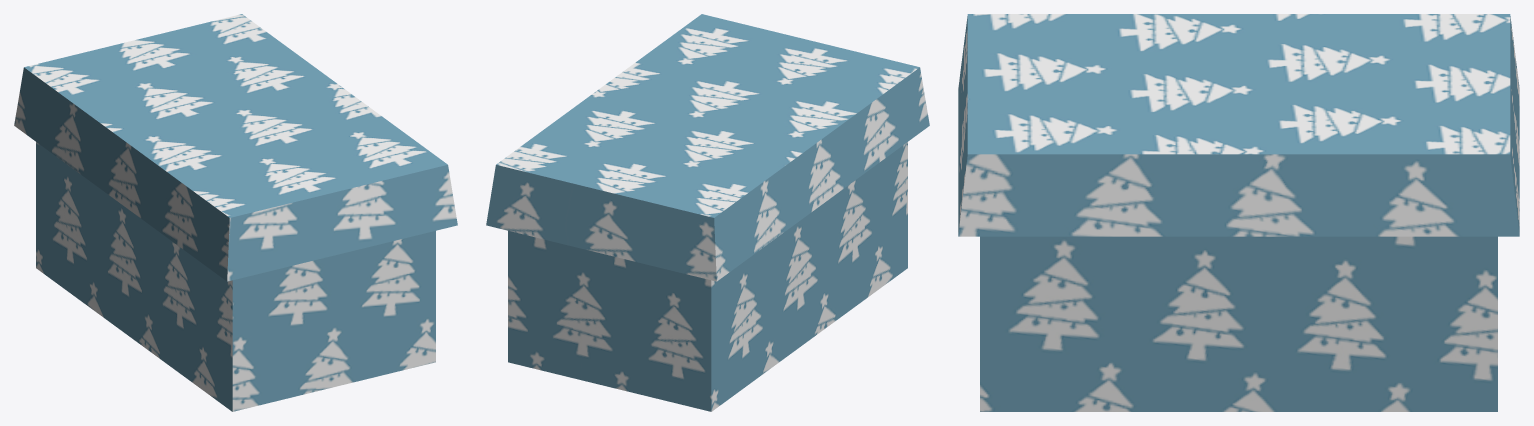
File: M_Gift_08.FBX
3 renders of one model, left to right at view 1: azimuth 30°, elevation 25°; view 2: azimuth 150°, elevation 25°; view 3: azimuth 270°, elevation 25°, orthographic. The views are drawn at different scales.
Visible parts, largest first — view 1: Object003; view 2: Object003; view 3: Object003.
Boxes of the visible parts, x1,y1,x2,y2 form: Object003: (14,14,457,411); Object003: (486,14,929,411); Object003: (958,14,1519,411).
Size of the model in its own units: 50.39 by 41.59 by 80.62.
Materials: 1 (1 with a texture image).
